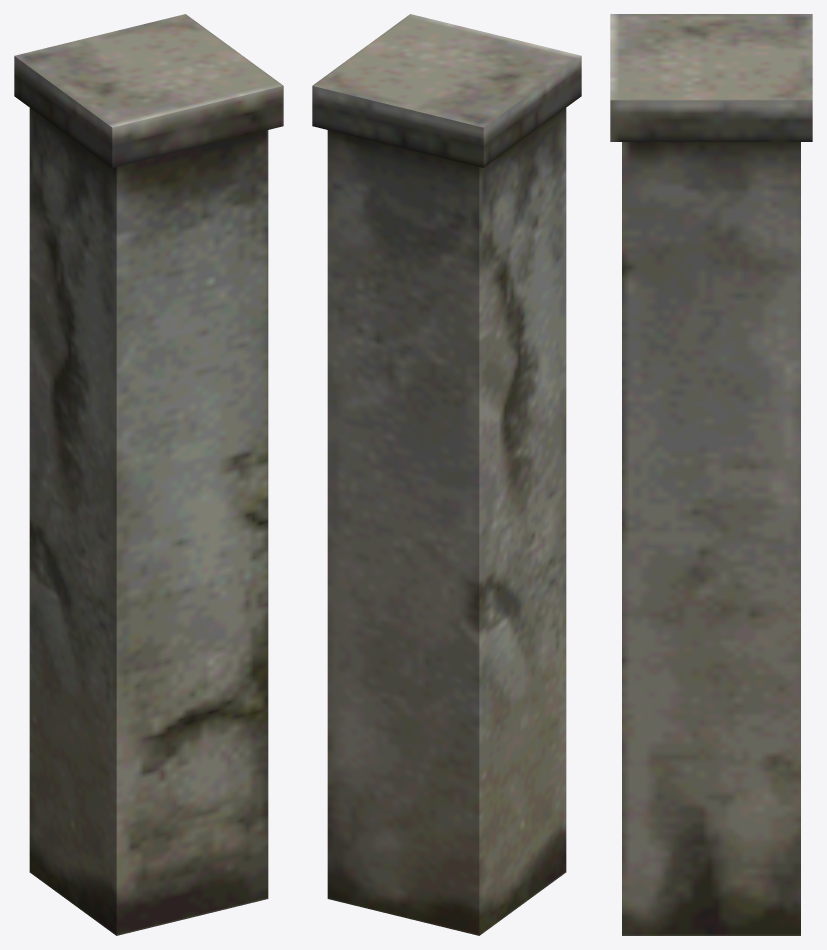
File: Wall_column.fbx
The picture shows the model from 3 angles, left to right: view 1: azimuth 30°, elevation 25°; view 2: azimuth 150°, elevation 25°; view 3: azimuth 270°, elevation 25°; orthographic projection. The views are drawn at different scales.
Parts seen in each view (by area): view 1: Wall_column; view 2: Wall_column; view 3: Wall_column.
Boxes of the visible parts, box(x1,y1,x2,y2) form: Wall_column: box(14, 14, 283, 935); Wall_column: box(312, 14, 581, 935); Wall_column: box(610, 14, 812, 935).
Size of the model in its own units: 72.63 by 330 by 71.98.
